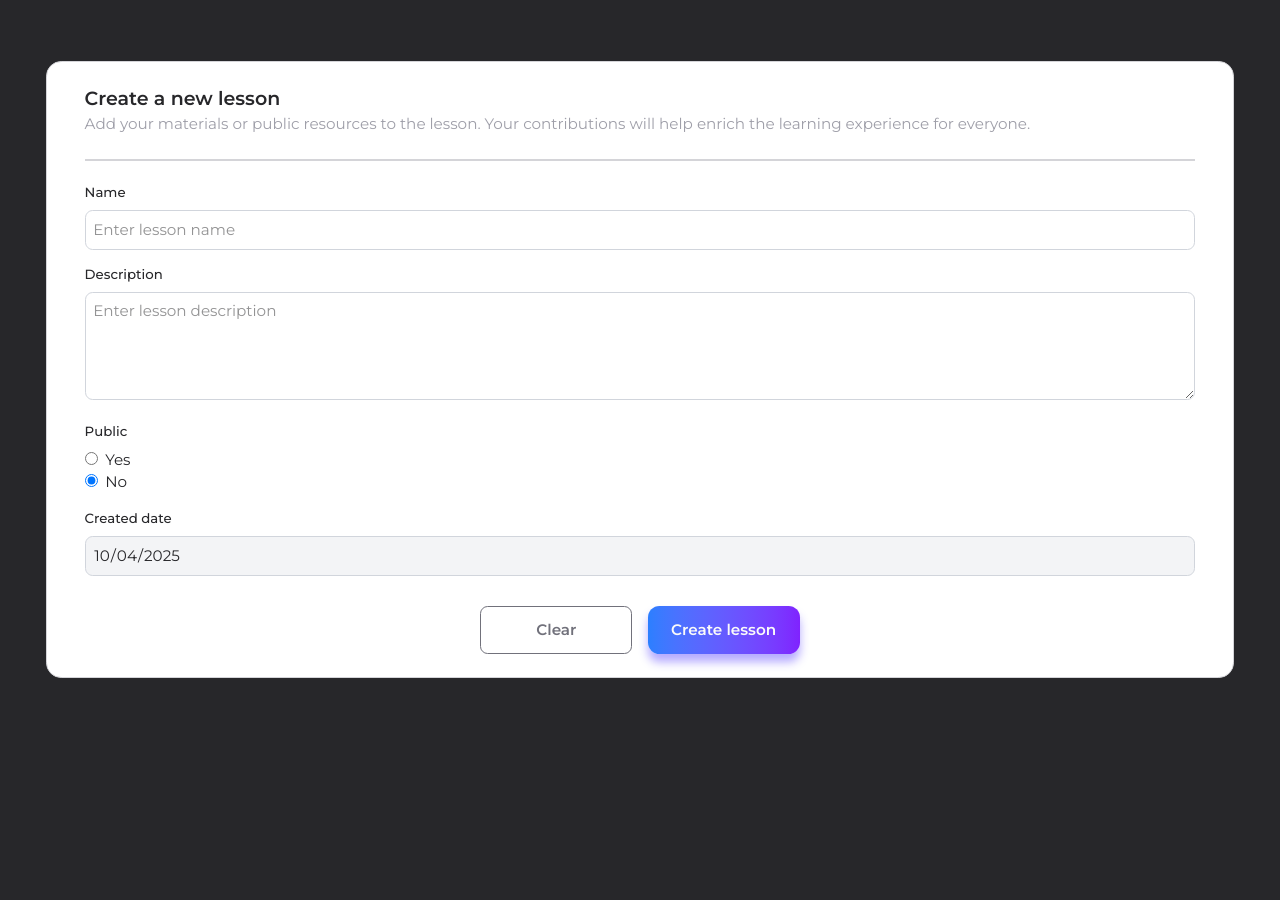
CreateLessonPage Component › Lesson Creation › should show error message on creation failure
The width and height of the screenshot is (1280, 900).
Fill out form
Type "Test Lesson" into the field with placeholder "Enter lesson name" at [640, 230], box x1=85 y1=210 x2=1195 y2=250
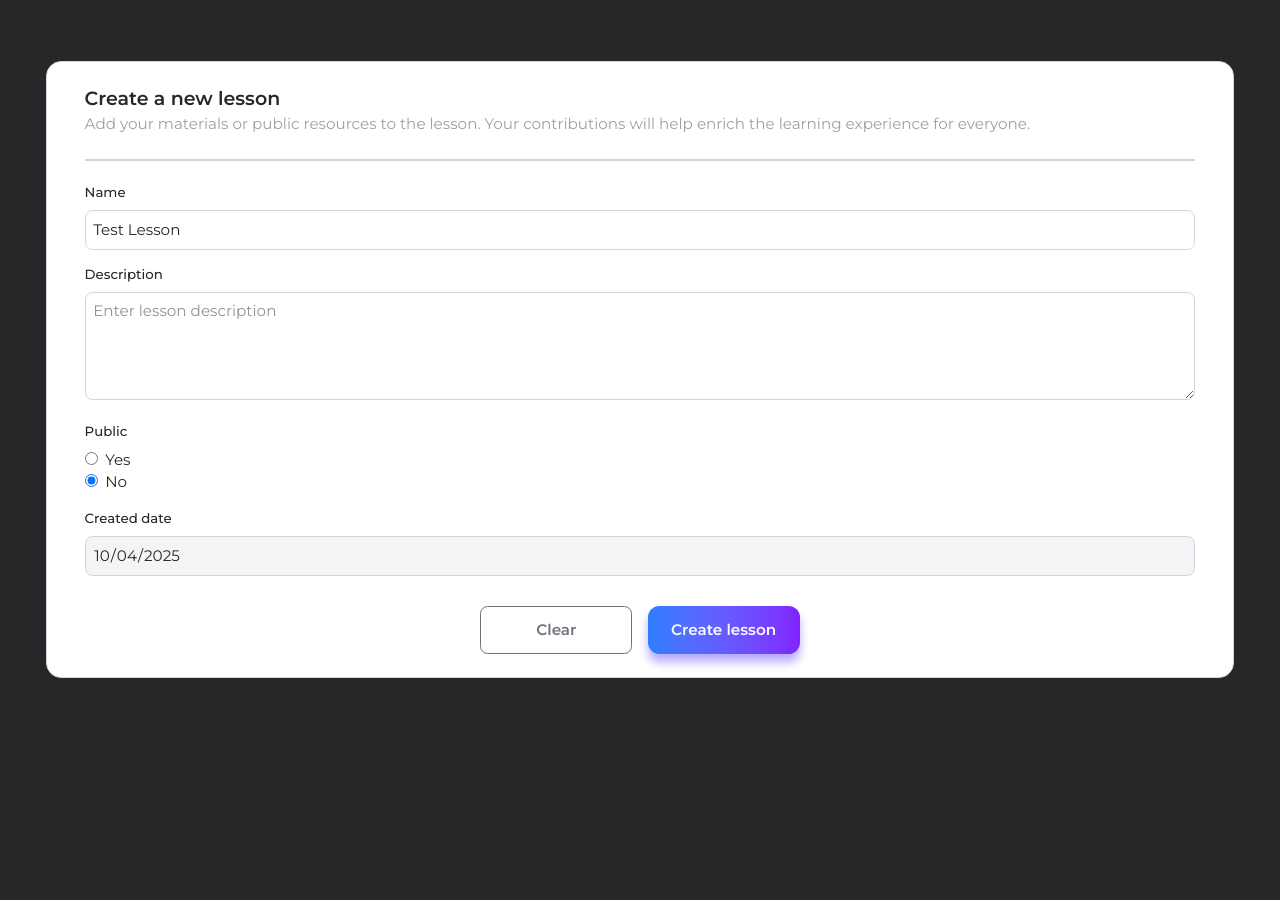
Type "Test description" into the text box with placeholder "Enter lesson description" at [640, 346], box x1=85 y1=292 x2=1195 y2=400
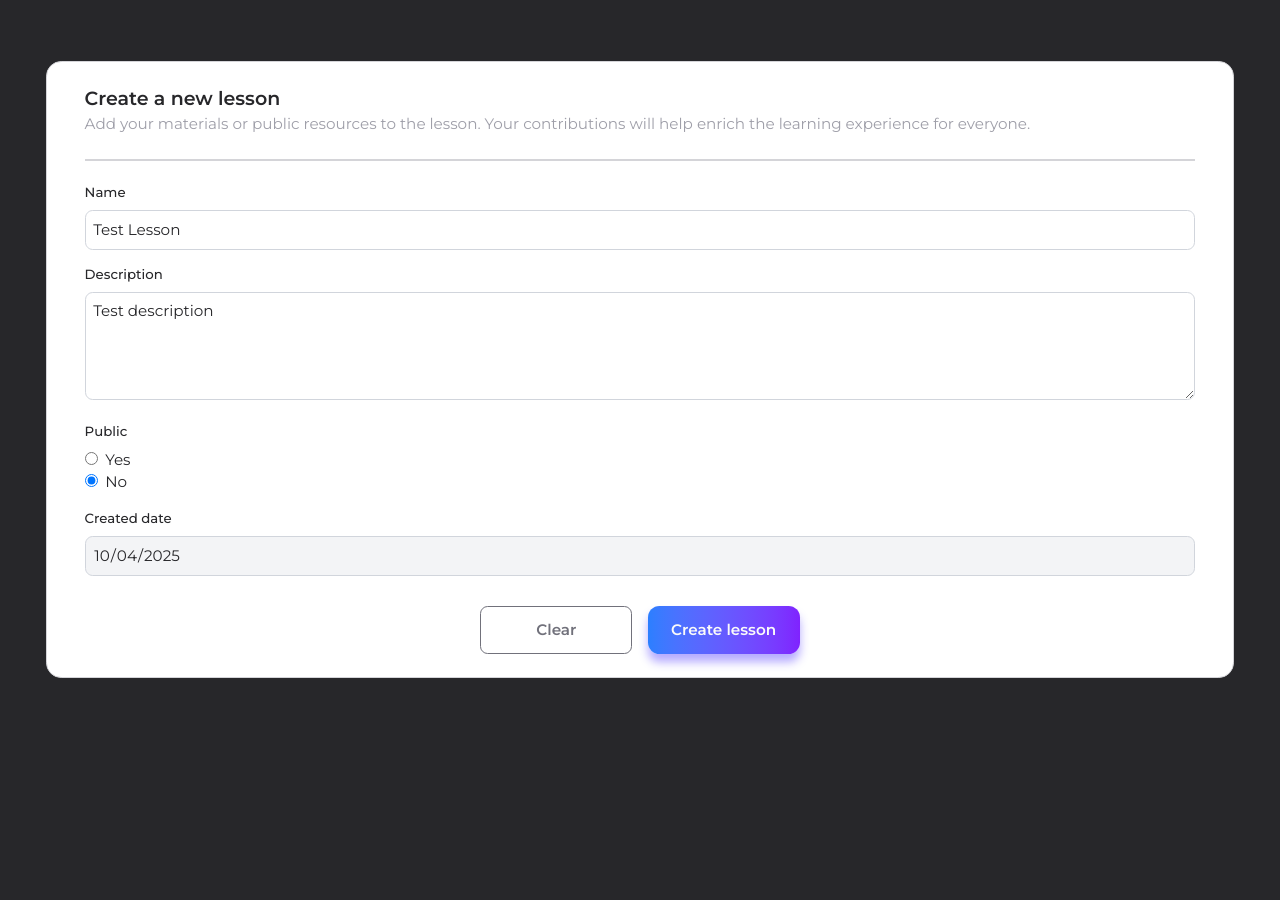
Submit form
Click the button "Create lesson" at [724, 630], box x1=648 y1=606 x2=800 y2=654
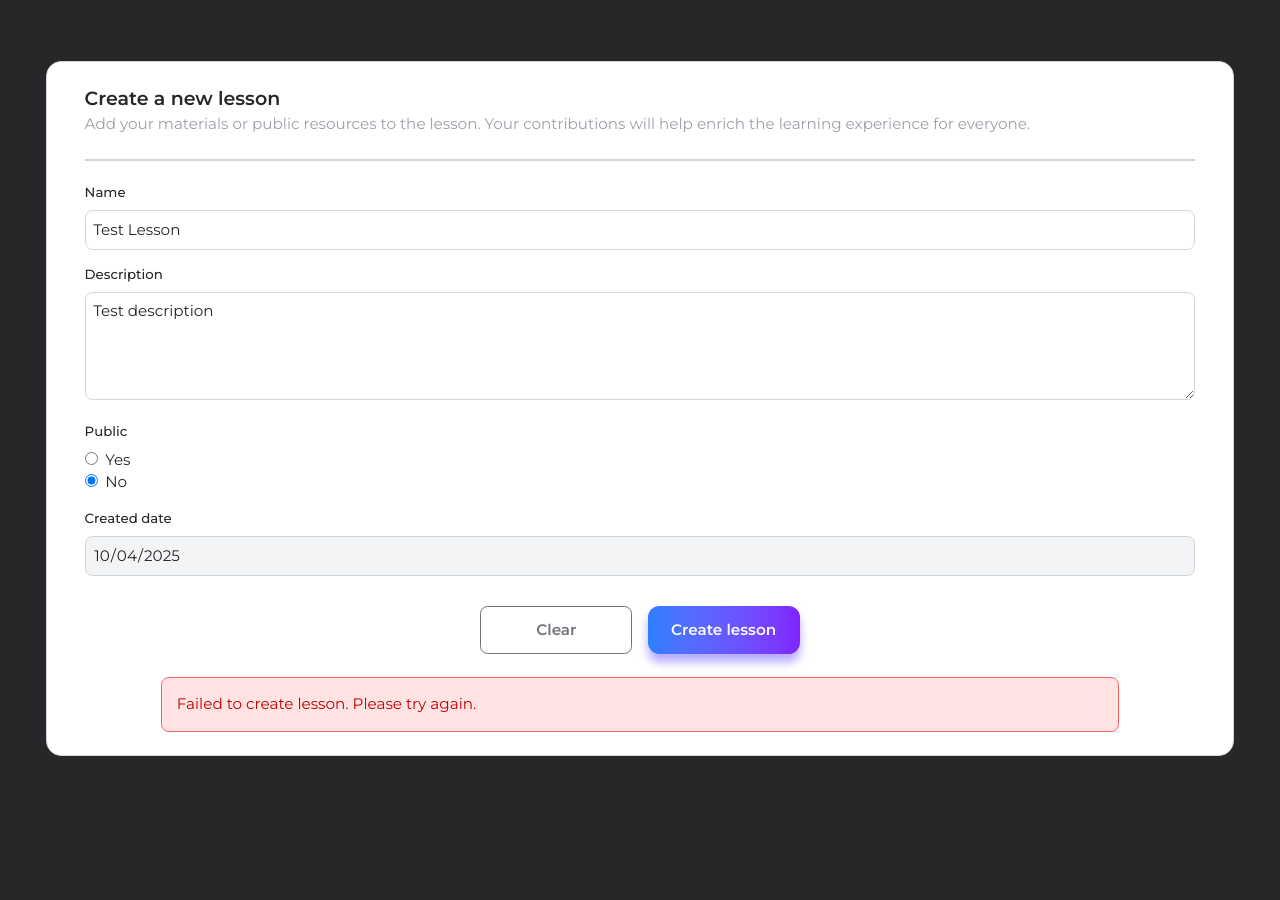
Expected: the text "Failed to create lesson. Please try again." is shown, x1=161 y1=677 x2=1119 y2=732
